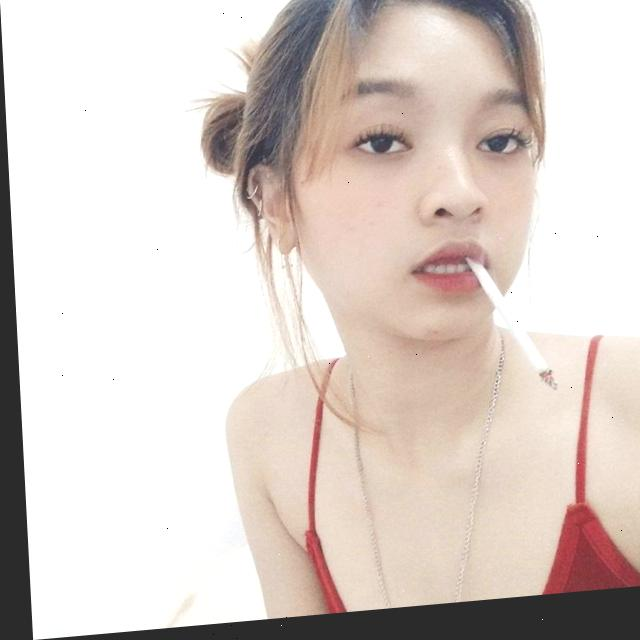cigarette: (462, 259, 554, 406)
